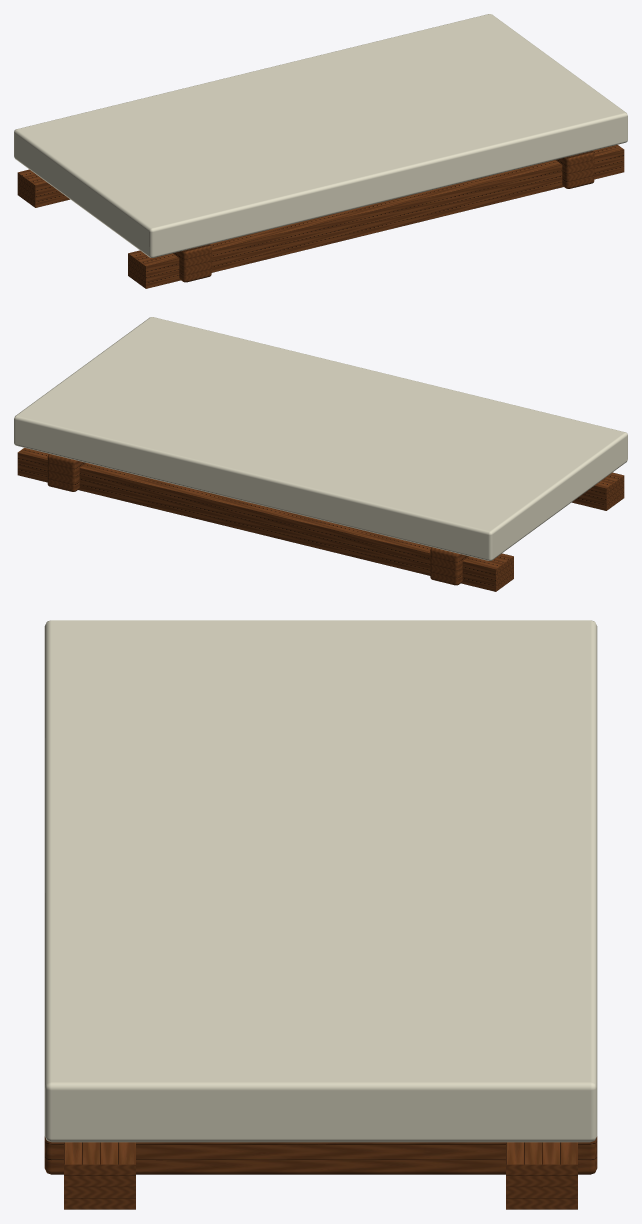
File: roadside-survival-stops-pump-island-platform-abfb3b92__23523.glb
3 views of the same model, one above another, from view 1: azimuth 30°, elevation 25°; view 2: azimuth 150°, elevation 25°; view 3: azimuth 270°, elevation 25° (orthographic). The views are drawn at different scales.
Visible parts, largest first — view 1: pump-island-platform; view 2: pump-island-platform; view 3: pump-island-platform.
Part boxes in pixels (x1,y1,x2,y2): pump-island-platform: [14, 14, 627, 288]; pump-island-platform: [14, 317, 627, 591]; pump-island-platform: [44, 620, 597, 1209].
Size of the model in its own units: 2 by 0.2499 by 1.
2 materials, 1 textured.
